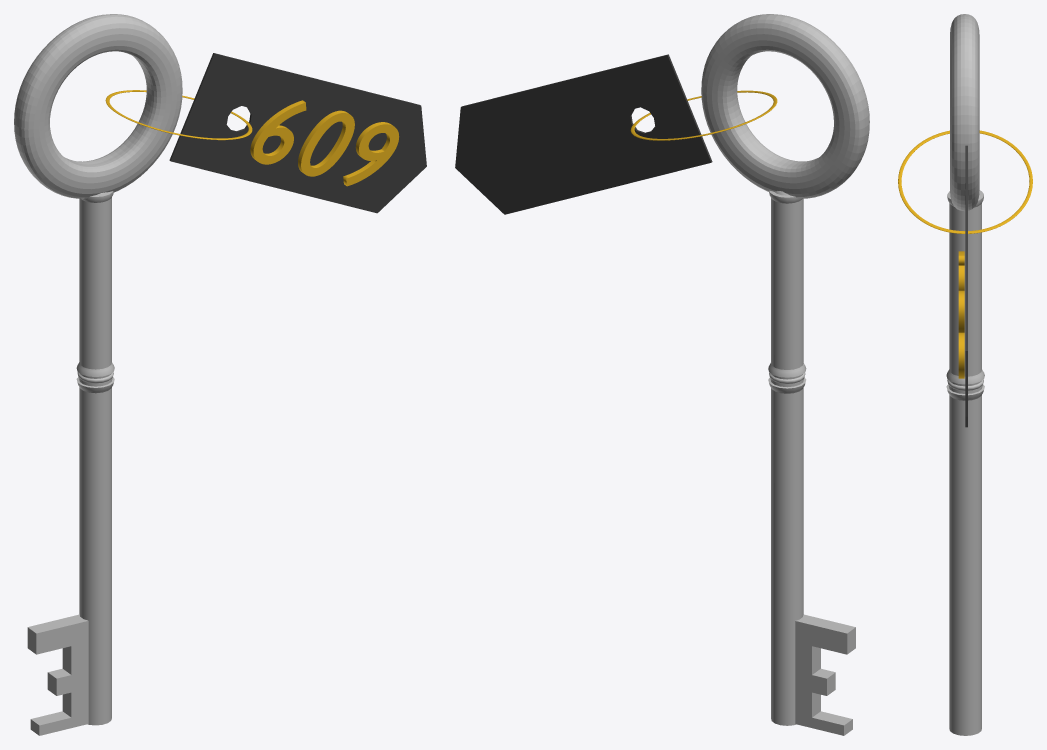
File: key609.fbx
The picture shows the model from 3 angles, left to right: view 1: azimuth 30°, elevation 25°; view 2: azimuth 150°, elevation 25°; view 3: azimuth 270°, elevation 25°; orthographic projection.
Visible parts, largest first — view 1: key609; view 2: key609; view 3: key609.
Boxes of the visible parts, x1,y1,x2,y2 form: key609: [14, 14, 426, 735]; key609: [455, 14, 869, 735]; key609: [898, 14, 1032, 735].
Bounding box in the file's own units: 8.68 × 14.18 × 2.45.
